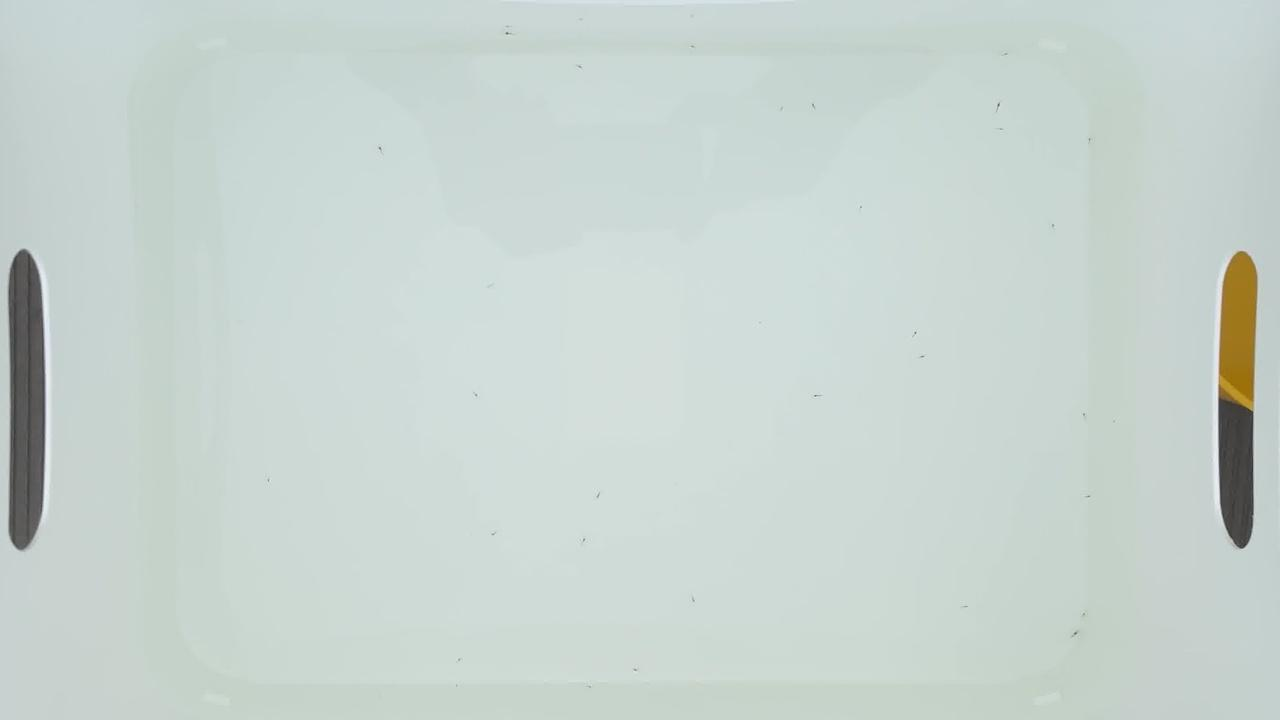shrimp: (855, 207, 868, 215), (776, 102, 789, 110), (374, 146, 387, 154), (367, 163, 380, 171), (688, 594, 701, 602), (909, 332, 922, 339), (807, 392, 820, 399), (959, 603, 972, 610), (1071, 631, 1084, 638), (1078, 611, 1091, 618), (1084, 492, 1097, 499), (1078, 410, 1091, 417), (1049, 221, 1062, 228), (1084, 135, 1097, 142), (995, 127, 1008, 134), (807, 105, 820, 112), (685, 14, 698, 21), (574, 63, 587, 70), (576, 15, 589, 22), (504, 30, 517, 37), (486, 281, 499, 288), (454, 654, 467, 661), (488, 533, 501, 540), (579, 537, 592, 544), (594, 489, 607, 496), (582, 686, 595, 693), (753, 319, 766, 326), (917, 353, 929, 360), (994, 102, 1006, 109), (1000, 52, 1012, 59), (684, 44, 696, 51), (469, 386, 481, 393), (263, 474, 275, 481), (629, 666, 641, 673)
